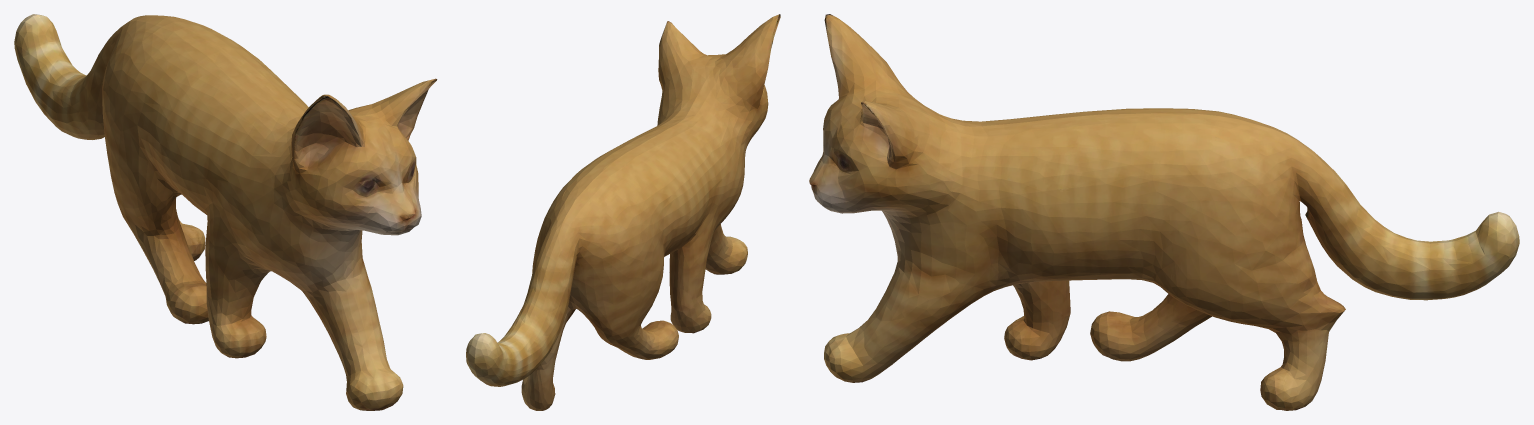
3 views of the same model, side by side, from view 1: azimuth 30°, elevation 25°; view 2: azimuth 150°, elevation 25°; view 3: azimuth 270°, elevation 25° (orthographic). The views are drawn at different scales.
Visible parts, largest first — view 1: geometry_0; view 2: geometry_0; view 3: geometry_0.
Part boxes in pixels (x1,y1,x2,y2): geometry_0: (14, 14, 437, 410); geometry_0: (466, 14, 780, 410); geometry_0: (809, 14, 1519, 410).
Size of the model in its own units: 0.2436 by 0.5471 by 0.9989.
1 material, 1 textured.
